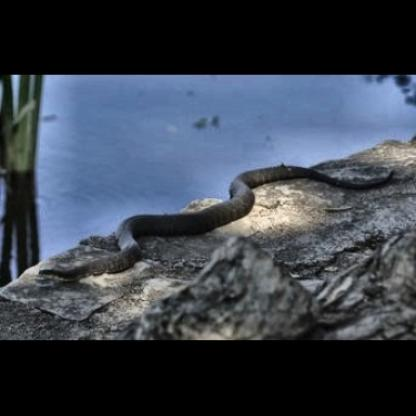Snake: (34, 162, 401, 284)
